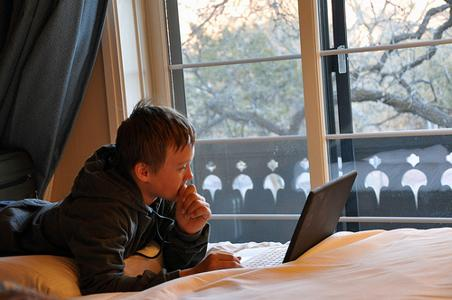person: (1, 99, 242, 295)
